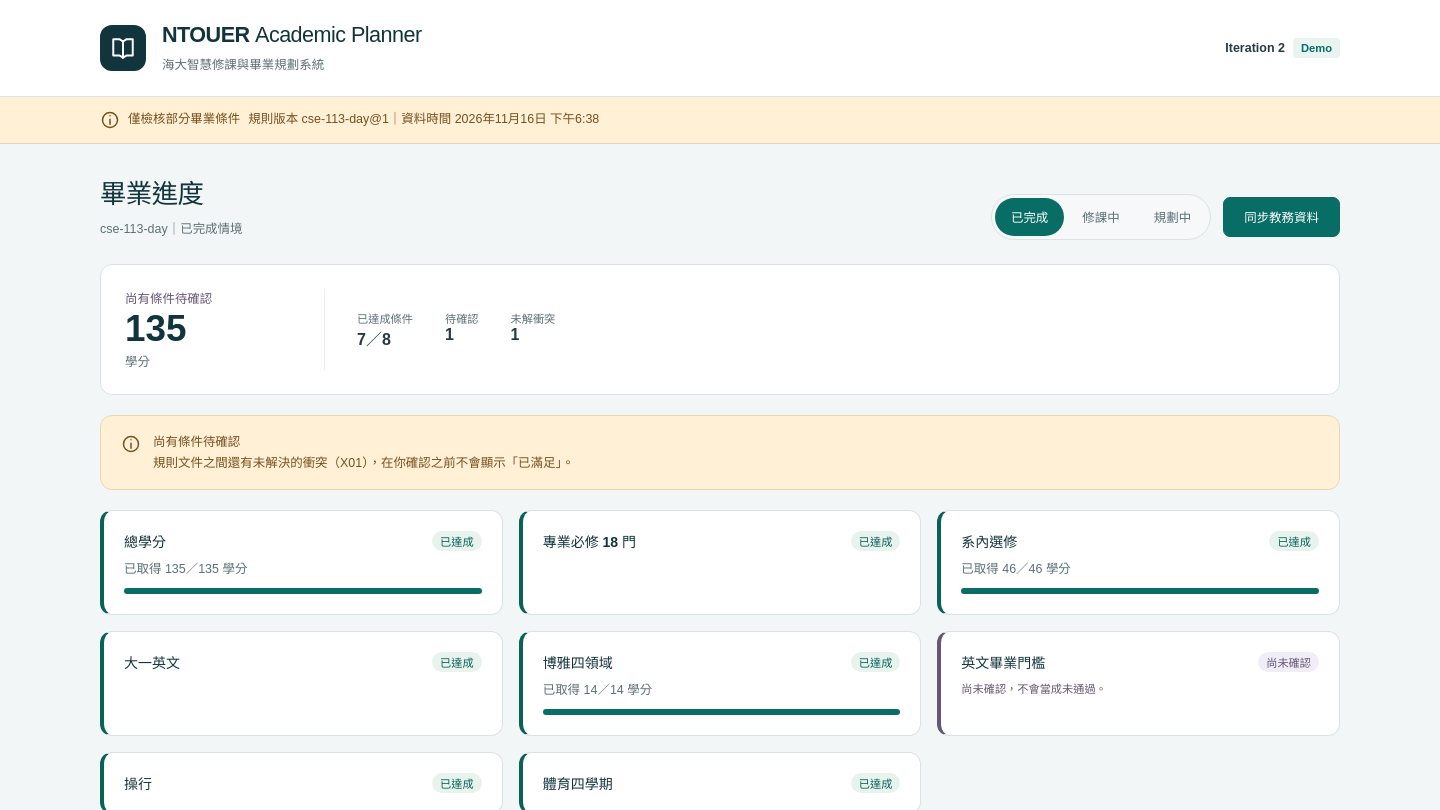
Scenario: 學生端進度頁（UI-02） › 切換情境會改變顯示的總學分
The image size is (1440, 810).
Expected: the text "135" is shown, [125, 308, 186, 349]
Click the button "修課中".
click(1101, 217)  # box [1066, 198, 1136, 236]
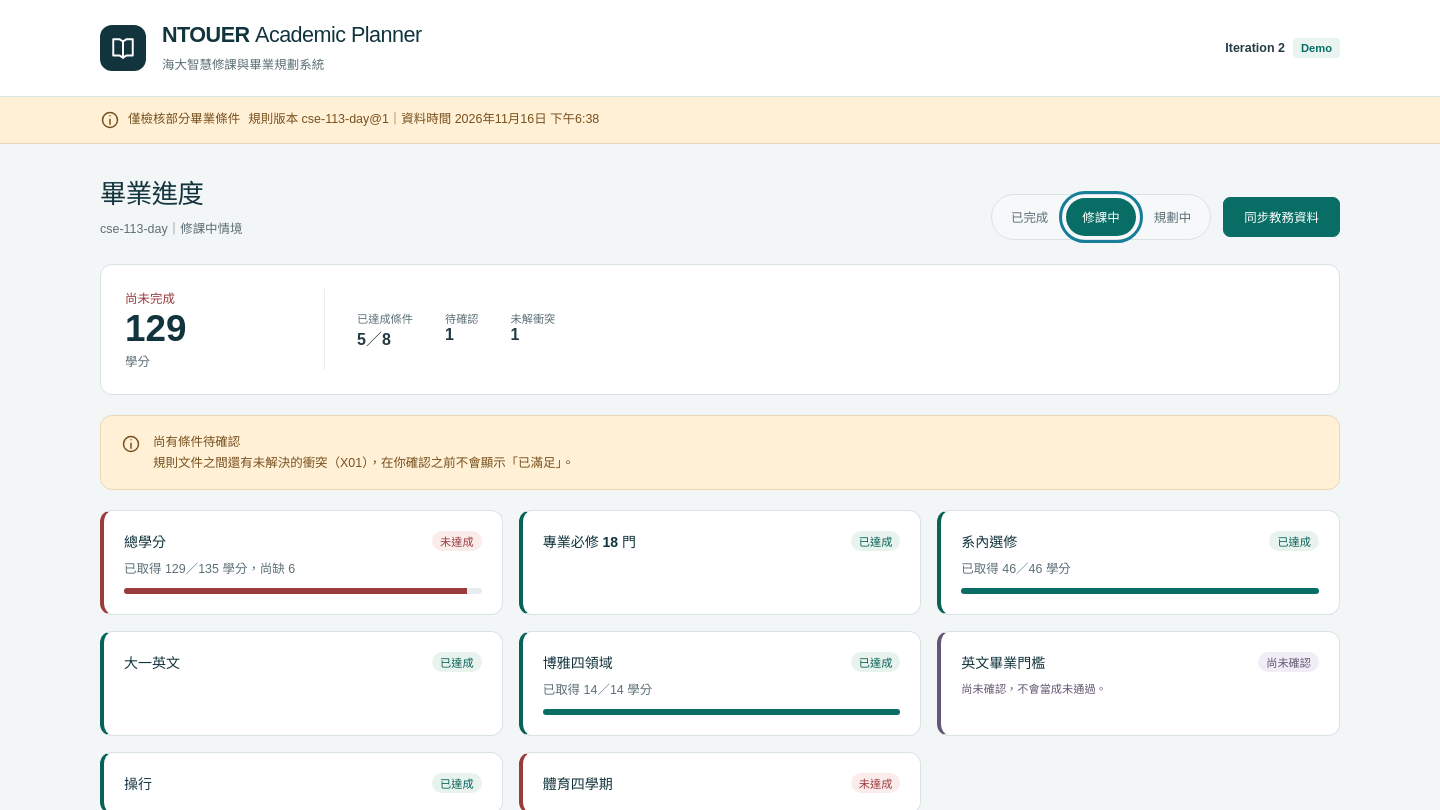
Expected: the text "129" is shown, [125, 308, 186, 349]
Click the button "規劃中".
click(1172, 217)  # box [1138, 198, 1207, 236]
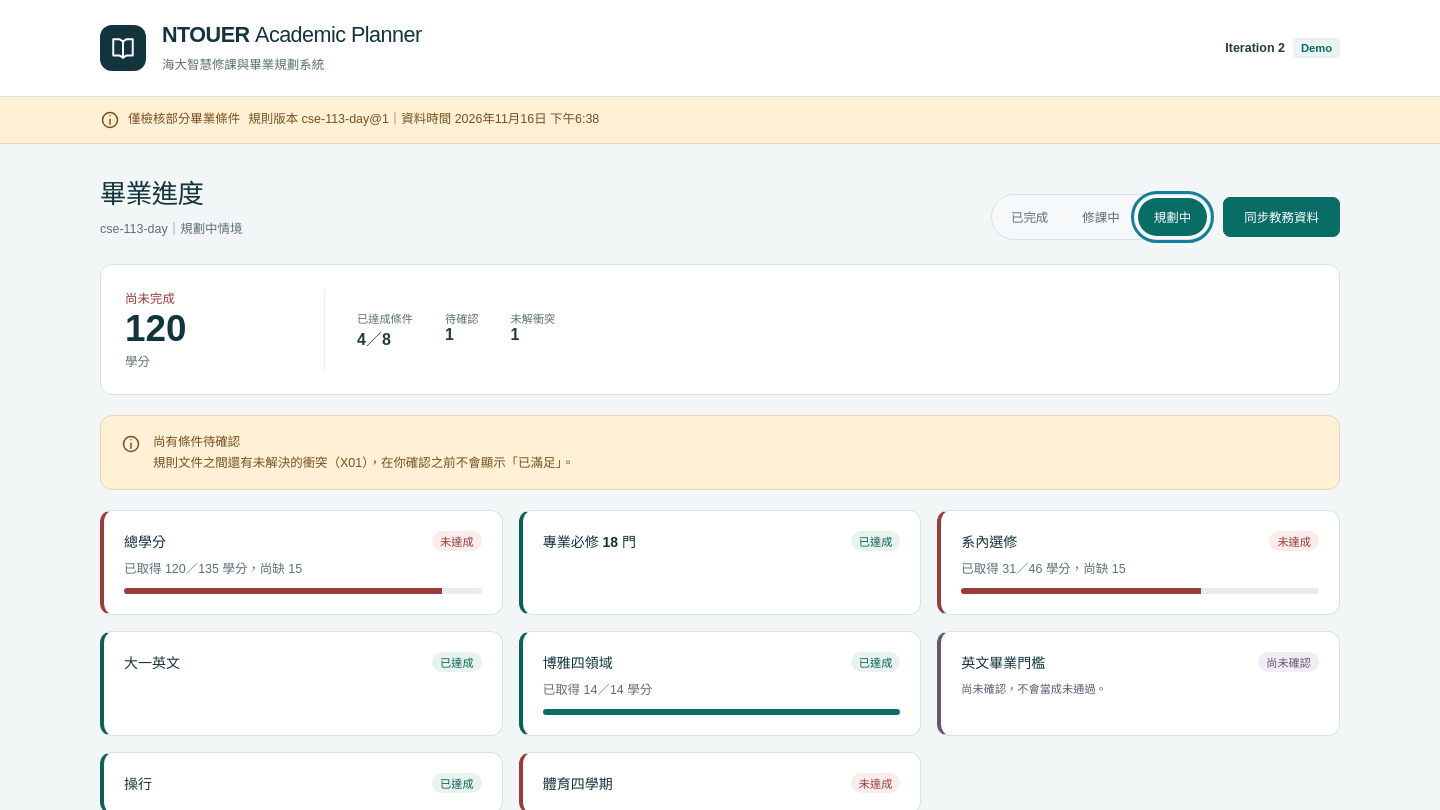
Expected: the text "120" is shown, [125, 308, 186, 349]
